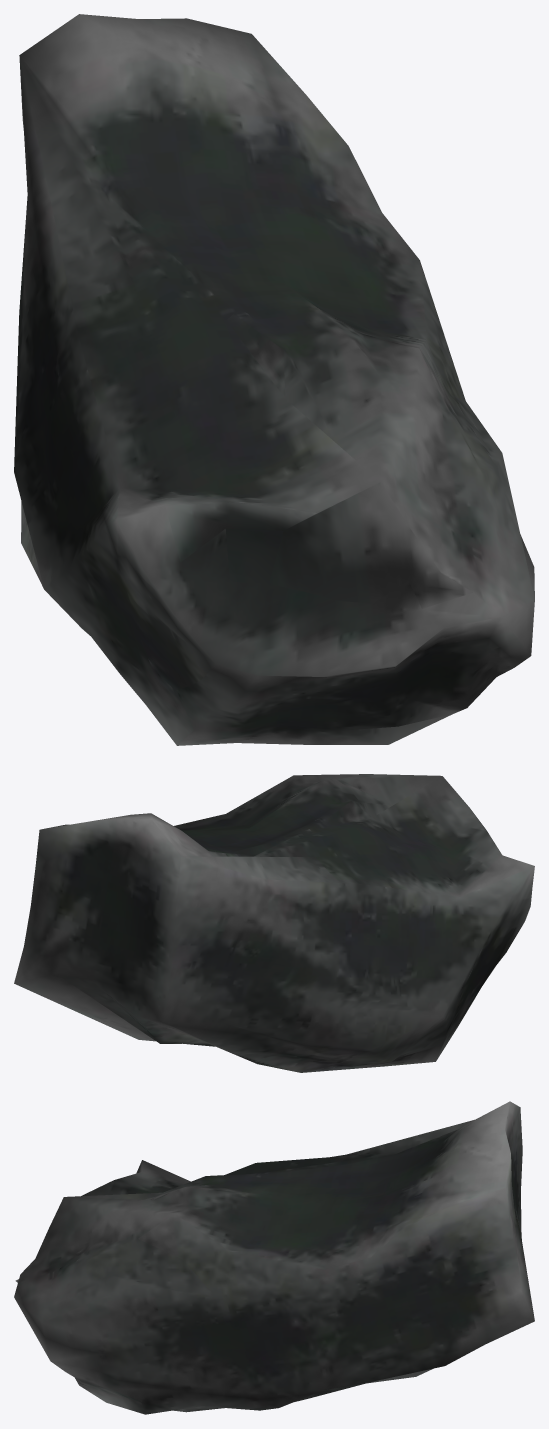
Rendered from rockDemo_s_04.glb.
3 views of the same model, one above another, from view 1: azimuth 30°, elevation 25°; view 2: azimuth 150°, elevation 25°; view 3: azimuth 270°, elevation 25° (orthographic). The views are drawn at different scales.
Visible parts, largest first — view 1: Rock_s_04; view 2: Rock_s_04; view 3: Rock_s_04.
Part boxes in pixels (x1,y1,x2,y2): Rock_s_04: (14, 14, 534, 745); Rock_s_04: (14, 774, 534, 1072); Rock_s_04: (14, 1101, 534, 1414).
Size of the model in its own units: 0.1783 by 0.184 by 0.2808.
Materials: 1 (1 with a texture image).
